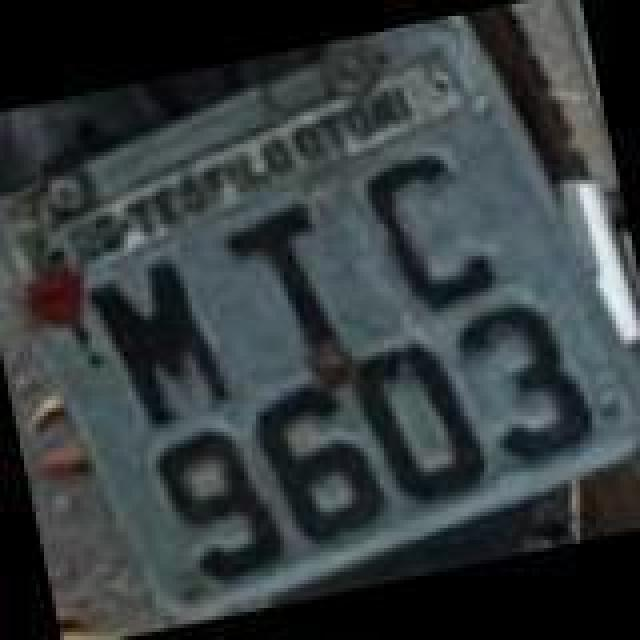3: (446, 290, 602, 478)
6: (246, 372, 394, 556)
9: (142, 414, 290, 594)
C: (354, 136, 510, 320)
M: (80, 248, 240, 440)
O: (342, 328, 490, 512)
T: (216, 192, 352, 376)
